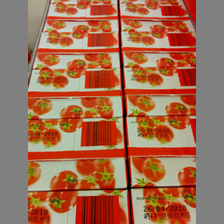tomato_sauce: (28, 158, 129, 224), (28, 97, 126, 158), (129, 156, 196, 224), (125, 93, 196, 157), (29, 51, 124, 95), (122, 48, 195, 94), (37, 18, 121, 53), (119, 16, 195, 50), (39, 1, 119, 18), (119, 1, 191, 19)
